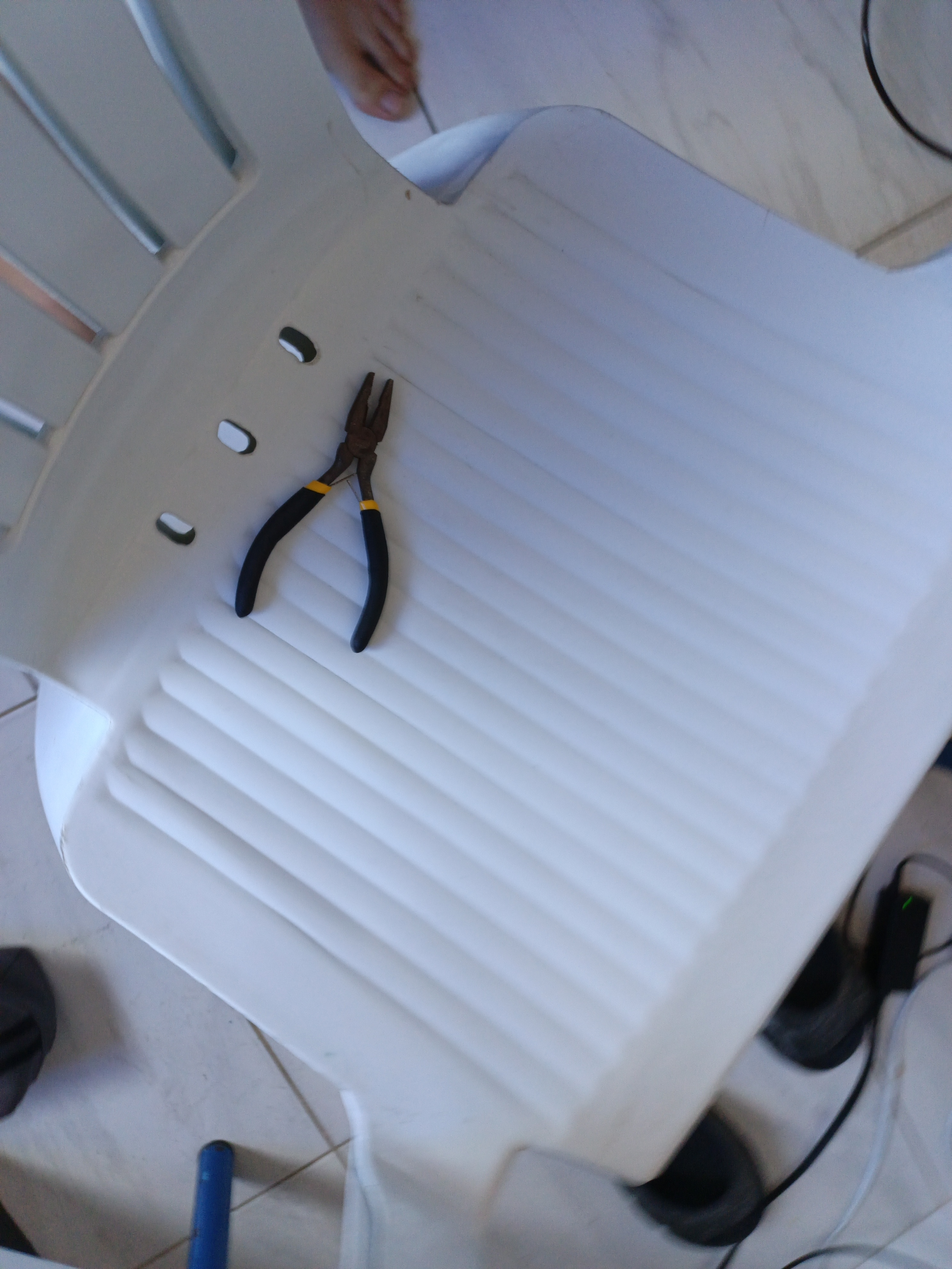Pinzas: (235, 372, 393, 652)
